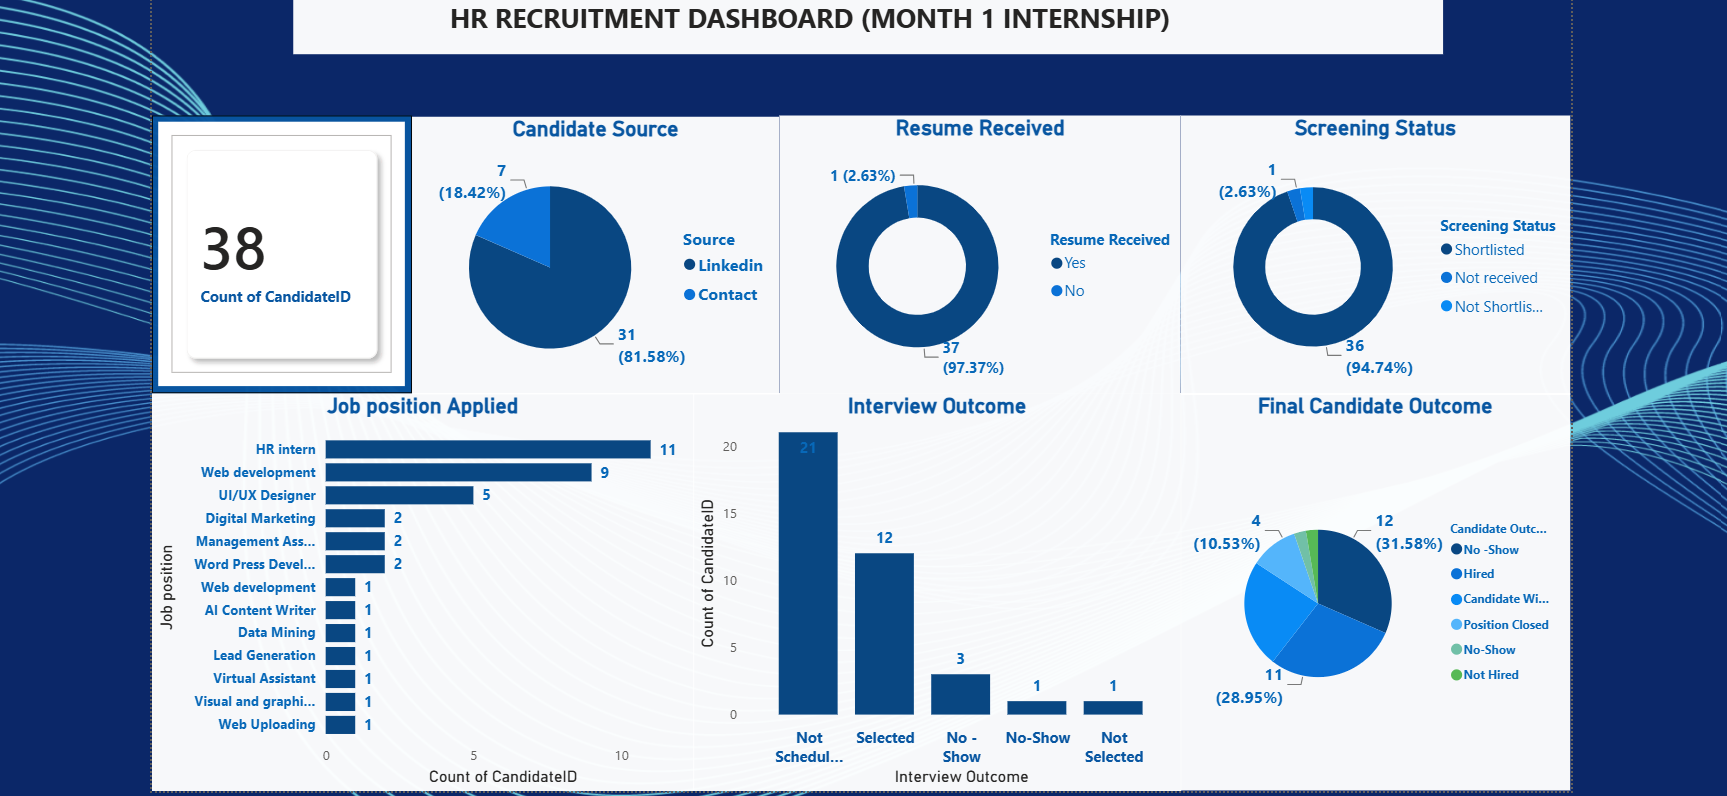

What the dashboard file says about the page in this screenshot:
{"tool":"powerbi","page":{"name":"Page 11","canvas":[1280,720],"ordinal":5},"visuals":[{"type":"textbox","box":[126.9,0,1037.2,55.1],"z":0},{"type":"clusteredBarChart","title":"Job position Applied","fields":{"Category":["project 1 (2).Job position"],"Y":["CountNonNull(project 1 (2).CandidateID)"]},"box":[0,360.3,488.5,359],"z":1000},{"type":"pieChart","title":" Candidate Source","fields":{"Category":["project 1 (2).Source"],"Y":["CountNonNull(project 1 (2).CandidateID)"]},"box":[234.8,111.3,331.4,250.7],"z":2000},{"type":"donutChart","title":" Screening Status","fields":{"Category":["project 1 (2).Screening Status"],"Y":["CountNonNull(project 1 (2).CandidateID)"]},"box":[928.1,110.1,351,251.9],"z":3000},{"type":"donutChart","title":"Resume Received","fields":{"Category":["project 1 (2).Resume Received"],"Y":["CountNonNull(project 1 (2).CandidateID)"]},"box":[566.2,110.1,362,250.7],"z":4000},{"type":"columnChart","title":" Interview Outcome","fields":{"Category":["project 1 (2).Interview Outcome"],"Y":["CountNonNull(project 1 (2).CandidateID)"]},"box":[488.5,360.3,439.7,359],"z":5000},{"type":"pieChart","title":"Final Candidate Outcome","fields":{"Category":["project 1 (2).Candidate Outcome"],"Y":["CountNonNull(project 1 (2).CandidateID)"]},"box":[928.1,360.7,351,358.3],"z":6000},{"type":"cardVisual","fields":{"Data":["Count(project 1 (2).CandidateID)"]},"box":[0,110.1,234.8,250.7],"z":7000}]}

Visuals, with their boxes on the page's 1280x720 design canvas (x1, y1, x2, y2). These are canvas units, not pixel positions in the 1727x796 screenshot, which may show the page scaled, cropped or inside an application window:
textbox: (127, 0, 1164, 55)
"Job position Applied" clusteredBarChart: (0, 360, 488, 719)
" Candidate Source" pieChart: (235, 111, 566, 362)
" Screening Status" donutChart: (928, 110, 1279, 362)
"Resume Received" donutChart: (566, 110, 928, 361)
" Interview Outcome" columnChart: (488, 360, 928, 719)
"Final Candidate Outcome" pieChart: (928, 361, 1279, 719)
cardVisual - Count(project 1 (2).CandidateID): (0, 110, 235, 361)
